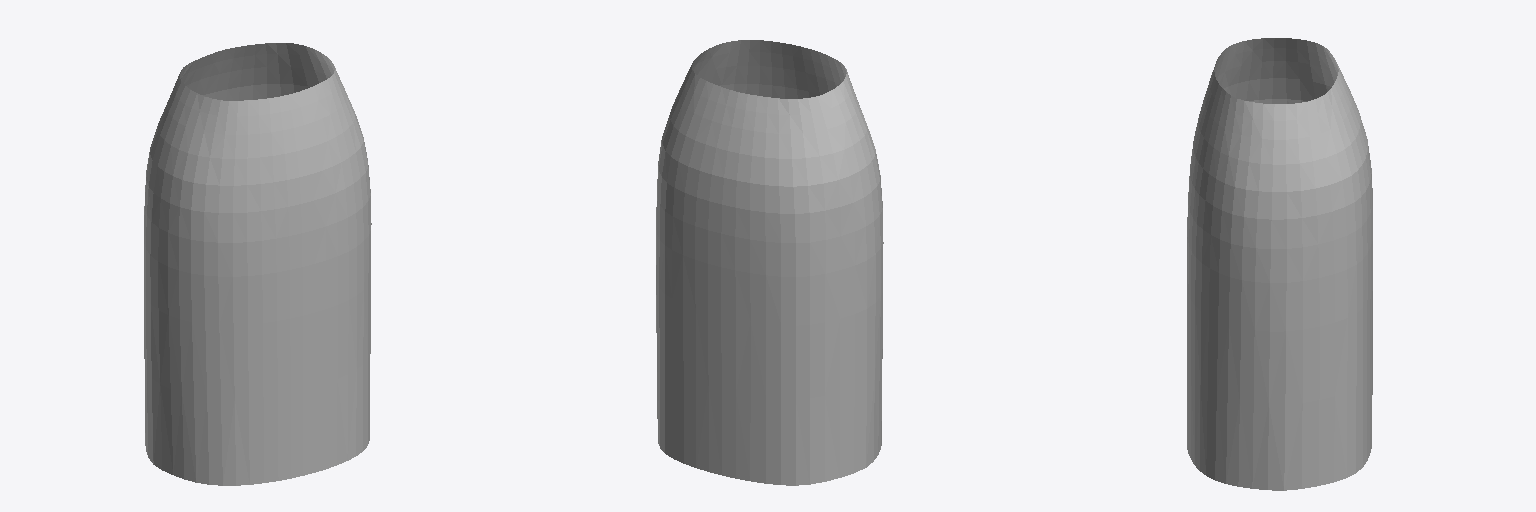
The model's file is 4_skirtlongnarrow.obj.
3 renders of one model, left to right at view 1: azimuth 30°, elevation 25°; view 2: azimuth 150°, elevation 25°; view 3: azimuth 270°, elevation 25°, orthographic.
Parts seen in each view (by area): view 1: skirtfront, skirtback, skirtbackleft, skirtbackright; view 2: skirtback, skirtbackleft, skirtfront, skirtbackright; view 3: skirtfront, skirtbackright, skirtback, skirtbackleft.
Part boxes in pixels (left/top/right/bottom): skirtfront: left=150, top=53, right=371, bottom=485; skirtback: left=184, top=43, right=266, bottom=100; skirtbackleft: left=144, top=61, right=193, bottom=464; skirtbackright: left=266, top=43, right=331, bottom=97; skirtback: left=672, top=81, right=780, bottom=484; skirtbackleft: left=778, top=90, right=866, bottom=485; skirtfront: left=692, top=40, right=883, bottom=467; skirtbackright: left=656, top=59, right=705, bottom=457; skirtfront: left=1187, top=38, right=1286, bottom=490; skirtbackright: left=1284, top=89, right=1362, bottom=490; skirtback: left=1331, top=55, right=1372, bottom=466; skirtbackleft: left=1286, top=38, right=1338, bottom=103.
Size of the model in its own units: 14.5 by 25.07 by 11.43.